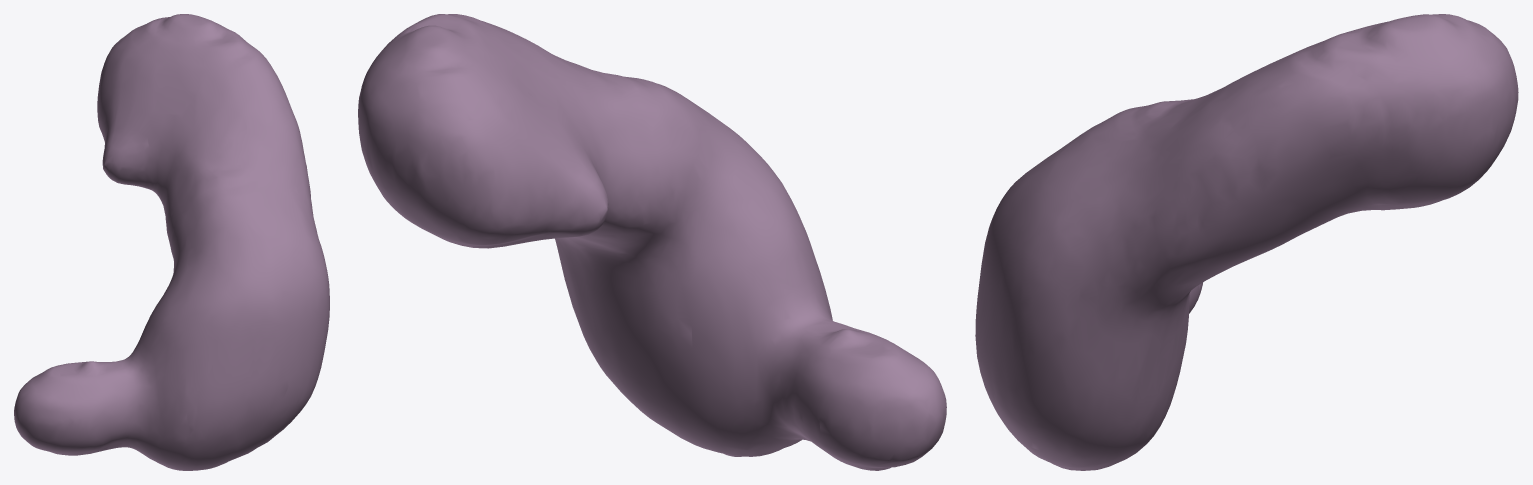
The model's file is estomago.fbx.
3 renders of one model, left to right at view 1: azimuth 30°, elevation 25°; view 2: azimuth 150°, elevation 25°; view 3: azimuth 270°, elevation 25°, orthographic. The views are drawn at different scales.
Parts seen in each view (by area): view 1: estomago; view 2: estomago; view 3: estomago.
Boxes of the visible parts, x1,y1,x2,y2 form: estomago: (14,14,329,470); estomago: (358,14,946,470); estomago: (975,14,1518,470).
Size of the model in its own units: 13.51 by 14.17 by 13.63.
